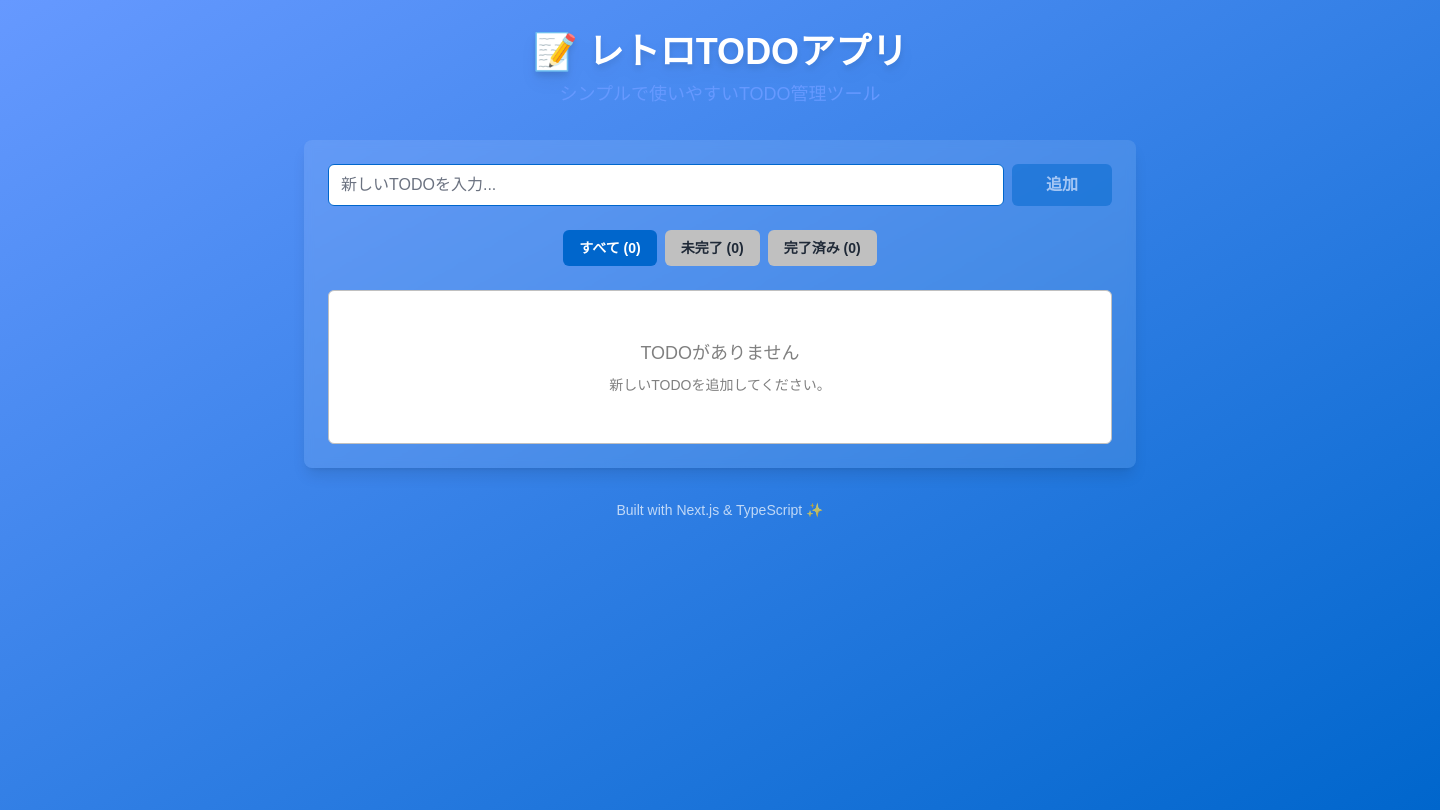
Test: TodoApp Component Integration Tests › should delete todo when delete button is clicked
The width and height of the screenshot is (1440, 810).
Expected: the text "TODOがありません" is shown, x1=640 y1=343 x2=800 y2=363
Type "Todo to delete" into the field with placeholder "新しいTODOを入力...".
click(666, 185); type("Todo to delete")  # box x1=328 y1=164 x2=1004 y2=206
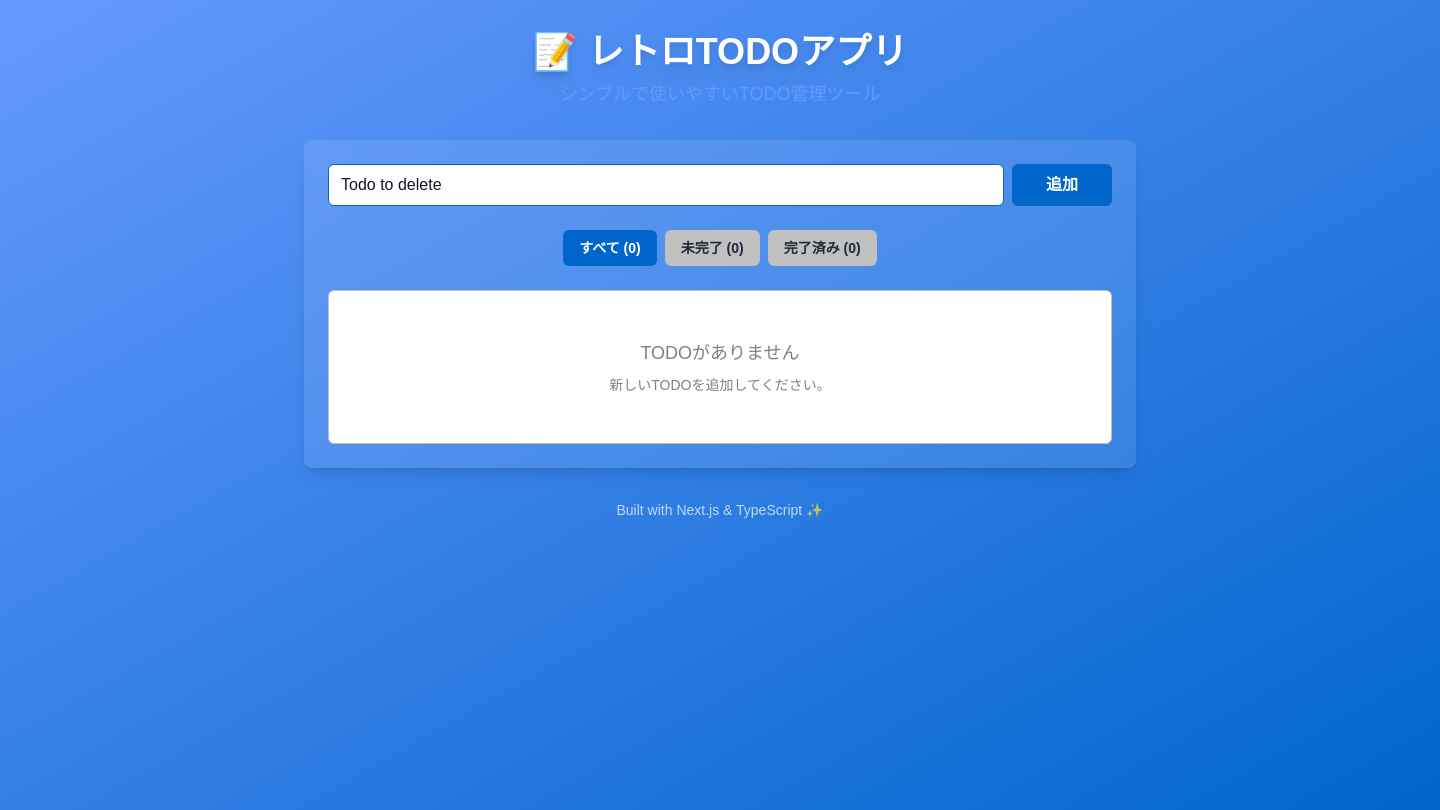
Click the button "追加".
click(1062, 185)  # box x1=1012 y1=164 x2=1112 y2=206
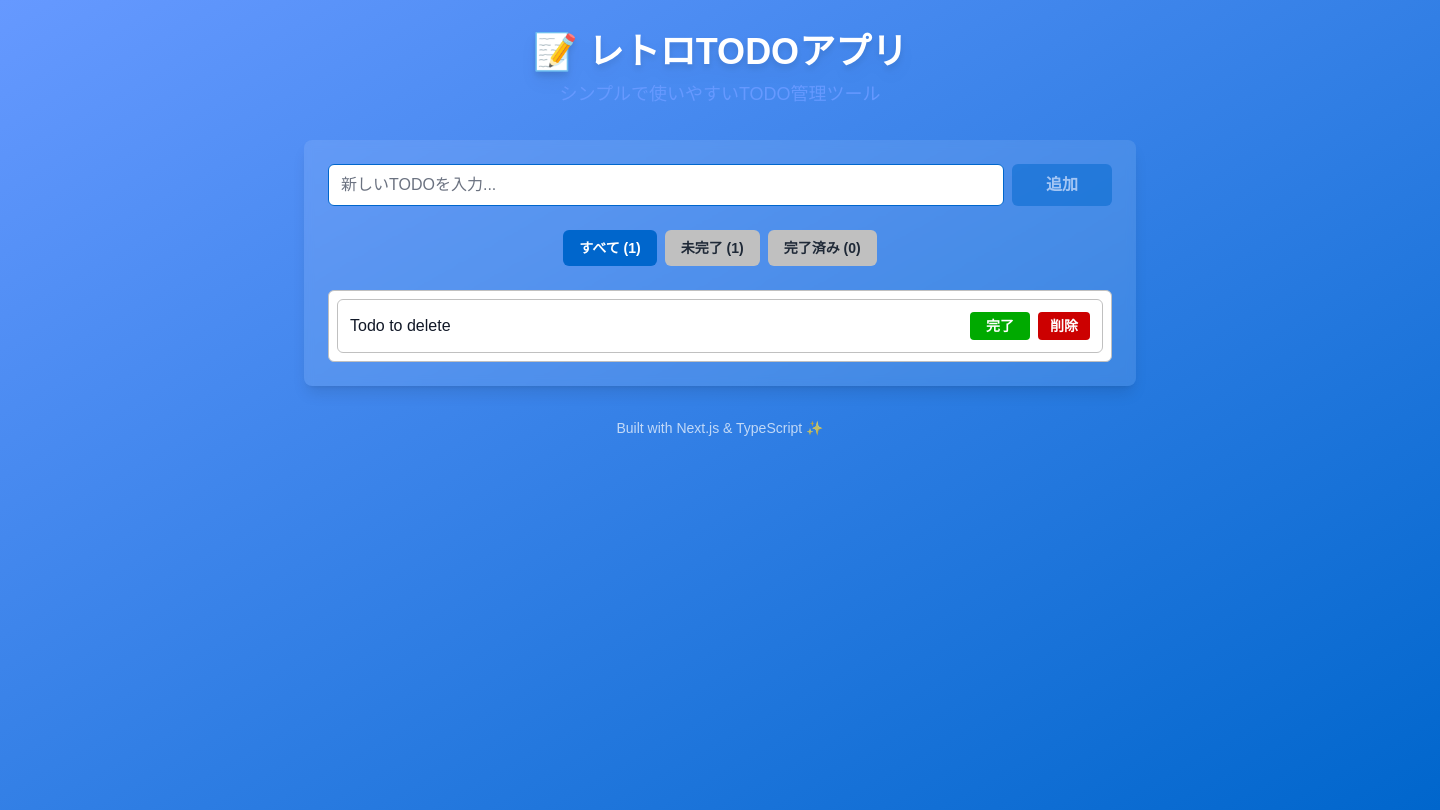
Expected: the text "Todo to delete" is shown, x1=350 y1=317 x2=450 y2=334
Click the button "削除".
click(1064, 326)  # box x1=1038 y1=312 x2=1090 y2=340
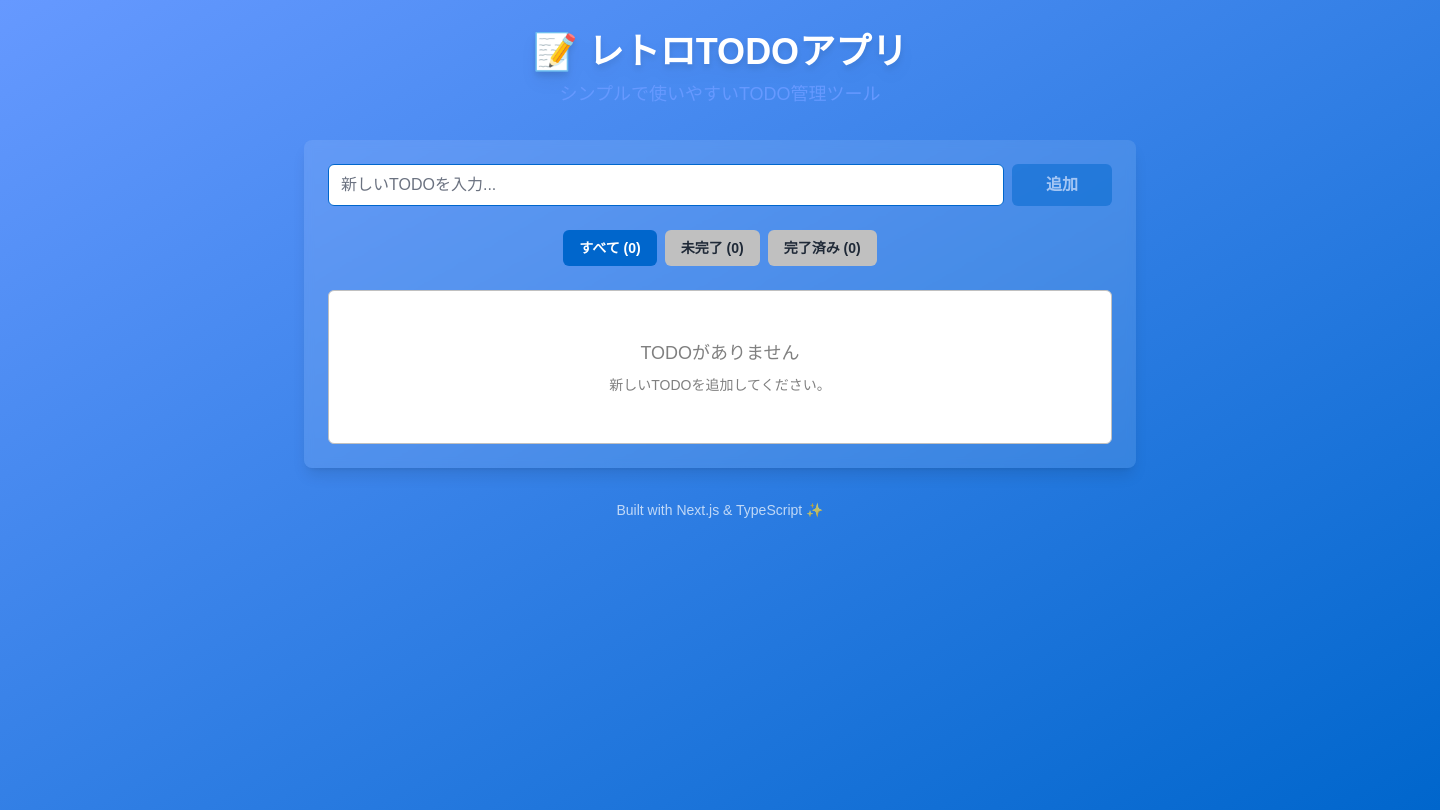
Expected: the text "Todo to delete" is gone
Expected: the text "TODOがありません" is shown, x1=640 y1=343 x2=800 y2=363
